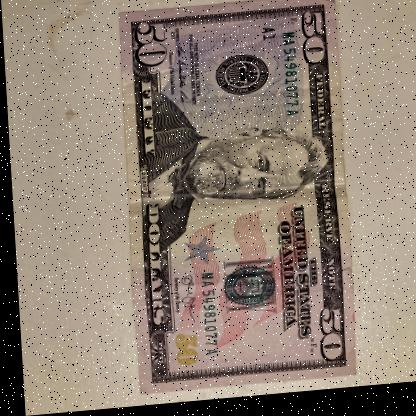fifty-front: (114, 0, 352, 398)
